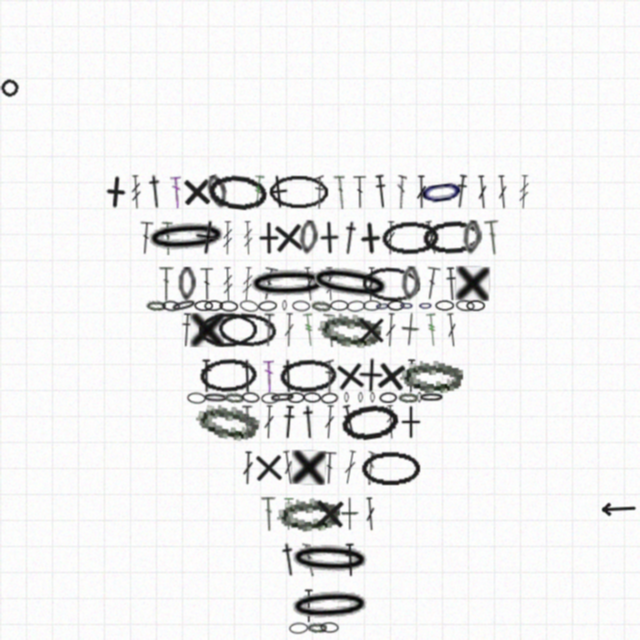chain: (306, 261, 394, 306), (143, 218, 230, 257), (287, 587, 373, 625), (287, 541, 373, 578), (246, 266, 331, 302), (194, 400, 261, 443), (339, 401, 400, 443), (317, 310, 382, 349), (276, 495, 341, 533), (207, 172, 268, 212), (217, 311, 278, 349), (361, 265, 421, 303), (422, 219, 482, 256), (199, 357, 257, 394), (400, 359, 463, 393), (279, 358, 338, 394), (381, 220, 440, 256), (198, 312, 258, 347), (361, 451, 420, 485), (269, 175, 328, 209), (416, 172, 467, 211), (204, 173, 231, 210), (298, 220, 319, 255), (462, 220, 482, 255), (401, 266, 420, 301), (178, 267, 196, 301), (170, 297, 198, 314), (269, 391, 296, 404), (202, 392, 229, 404), (418, 392, 445, 403), (239, 299, 259, 313), (455, 299, 475, 312), (241, 391, 260, 404), (311, 300, 331, 312), (346, 300, 366, 312), (289, 622, 308, 634), (187, 392, 206, 404), (261, 392, 280, 404), (320, 392, 339, 404), (219, 300, 238, 312), (258, 300, 277, 312), (307, 622, 327, 633), (224, 392, 244, 403), (398, 392, 418, 403), (146, 300, 166, 311), (162, 300, 180, 312), (292, 300, 310, 312), (320, 622, 339, 633), (194, 300, 213, 311), (204, 300, 223, 311), (330, 300, 349, 311), (435, 300, 454, 311), (466, 300, 485, 311), (287, 392, 305, 403), (303, 392, 321, 403), (379, 392, 397, 403), (363, 300, 381, 311), (387, 300, 405, 311), (375, 300, 390, 312), (399, 300, 414, 311), (418, 300, 433, 311), (344, 392, 349, 403), (358, 392, 363, 403), (370, 392, 375, 403), (417, 392, 422, 403), (282, 300, 287, 311)
double: (259, 266, 279, 302), (423, 266, 441, 301), (484, 220, 502, 255), (423, 220, 440, 255), (342, 450, 358, 485), (261, 497, 277, 531), (138, 221, 154, 255), (281, 450, 296, 485), (322, 451, 337, 485), (159, 267, 174, 301), (302, 542, 316, 577), (323, 313, 337, 347), (445, 313, 459, 347), (200, 267, 214, 301), (302, 267, 316, 301), (333, 175, 347, 209), (353, 175, 367, 209), (364, 497, 377, 531), (364, 451, 377, 485), (323, 405, 336, 439), (384, 313, 397, 347), (170, 175, 183, 209), (476, 175, 489, 209), (496, 175, 509, 209), (242, 451, 254, 485), (263, 405, 275, 439), (263, 359, 275, 393), (263, 313, 275, 347), (283, 313, 295, 347), (365, 267, 377, 301), (161, 221, 173, 255), (395, 175, 407, 209), (242, 405, 253, 439), (385, 221, 396, 255), (416, 175, 427, 209), (325, 359, 334, 393), (315, 175, 324, 209)
half_double: (338, 220, 362, 256), (278, 542, 300, 577), (145, 174, 166, 209), (299, 405, 319, 439), (340, 404, 359, 439), (238, 359, 257, 393), (279, 359, 298, 393), (453, 174, 470, 209), (373, 174, 389, 209), (281, 405, 296, 439), (179, 313, 194, 347), (444, 267, 459, 301), (343, 543, 357, 577), (404, 359, 418, 393), (302, 589, 315, 623), (200, 359, 213, 393)
noise: (599, 501, 636, 516), (0, 77, 21, 99)
single: (331, 357, 369, 395), (372, 357, 410, 395), (270, 219, 307, 256), (260, 173, 297, 210), (352, 220, 388, 256), (98, 174, 134, 210), (312, 496, 347, 531), (251, 450, 286, 485), (291, 450, 326, 485), (455, 266, 490, 301), (312, 220, 347, 255), (179, 174, 214, 209), (394, 405, 428, 439), (190, 313, 224, 347), (354, 313, 388, 347), (252, 221, 286, 255), (192, 219, 222, 256), (357, 358, 384, 393), (400, 312, 421, 347), (341, 497, 359, 531)
treble: (302, 313, 316, 347), (425, 313, 439, 347), (251, 175, 265, 209), (241, 267, 254, 301), (283, 497, 295, 531), (385, 405, 397, 439), (222, 267, 234, 301), (324, 267, 336, 301), (242, 221, 254, 255), (130, 175, 142, 209), (518, 175, 530, 209), (222, 221, 233, 255)
